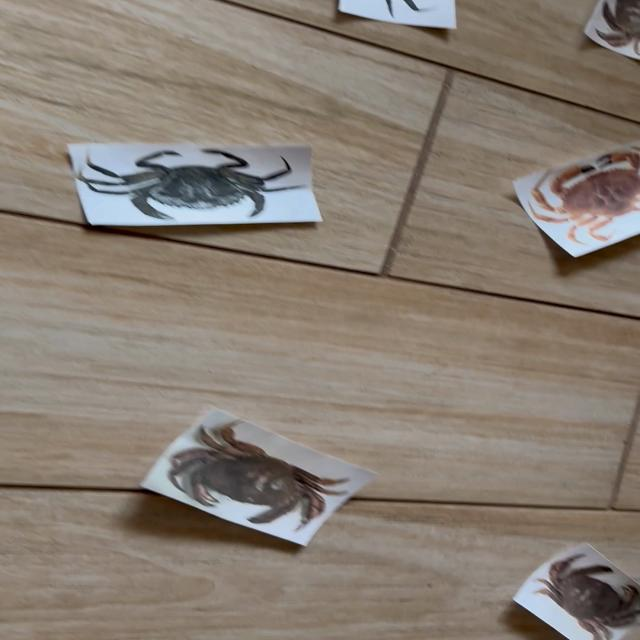egc: (76, 150, 302, 219)
